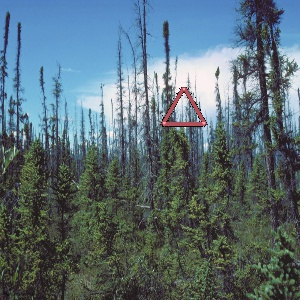triangle: (158, 84, 210, 130)
